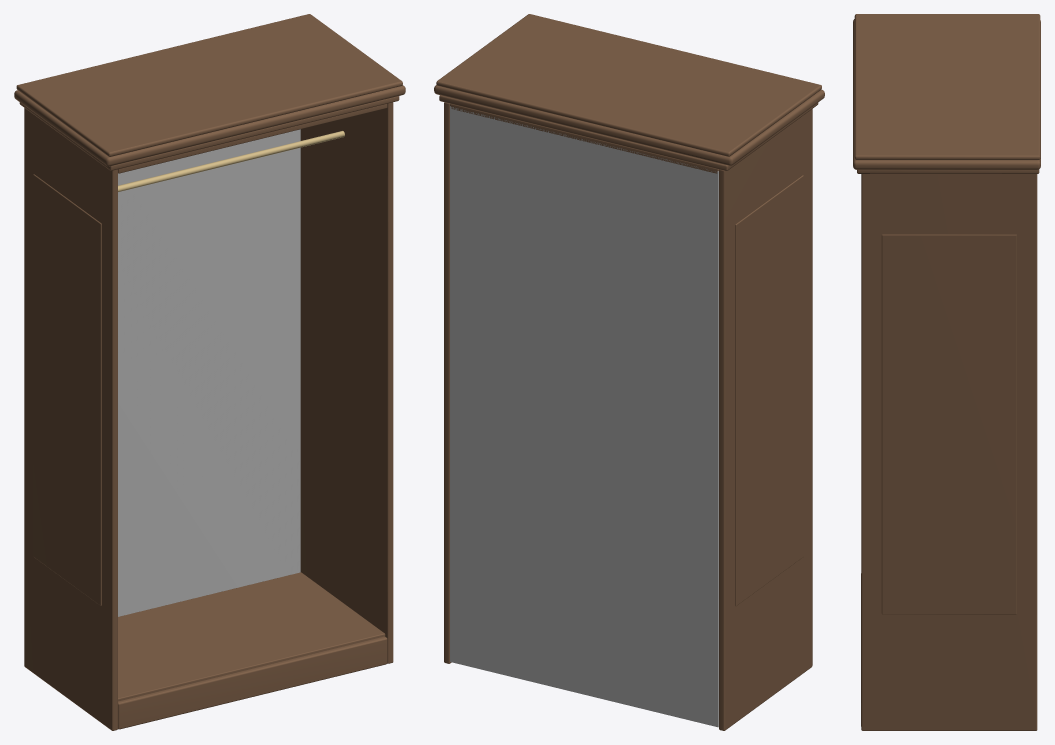
File: lp_cabinet_case_110.glb
3 renders of one model, left to right at view 1: azimuth 30°, elevation 25°; view 2: azimuth 150°, elevation 25°; view 3: azimuth 270°, elevation 25°, orthographic.
Visible parts, largest first — view 1: lp_cabinet_case_110; view 2: lp_cabinet_case_110; view 3: lp_cabinet_case_110.
Part boxes in pixels (x1=…): lp_cabinet_case_110: x1=14, y1=14, x2=405, y2=730; lp_cabinet_case_110: x1=434, y1=14, x2=824, y2=730; lp_cabinet_case_110: x1=853, y1=14, x2=1040, y2=730.
Bounding box in the file's own units: 1.17 × 2.17 × 0.64.
